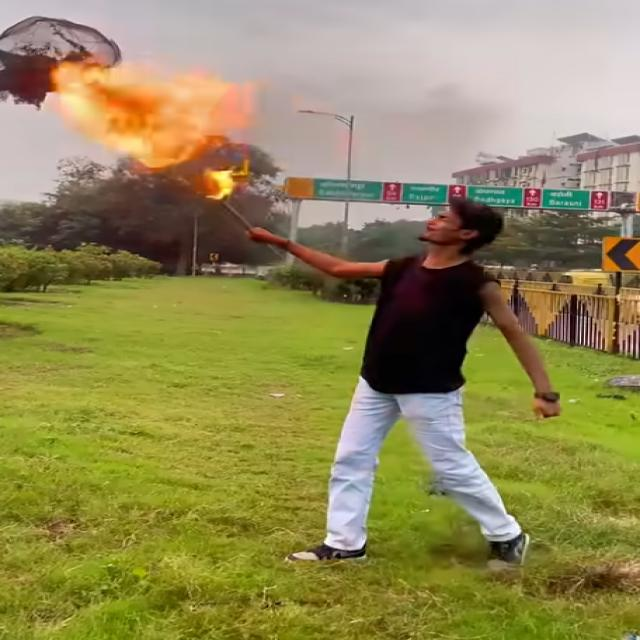fire: (51, 52, 255, 172), (187, 168, 236, 199)
